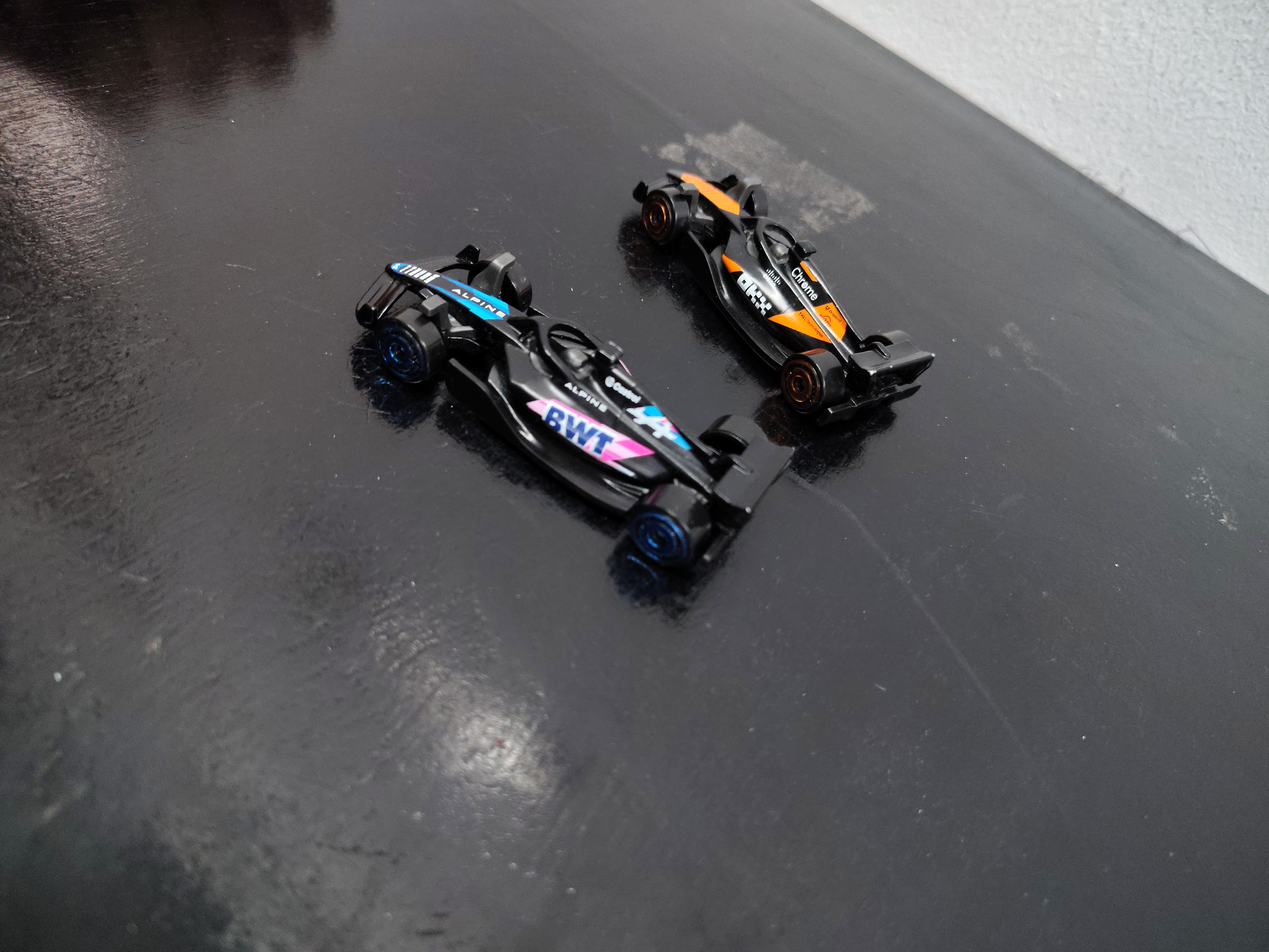Alpine A524: (314, 169, 770, 595)
McLaren MCL40: (582, 110, 951, 437)
